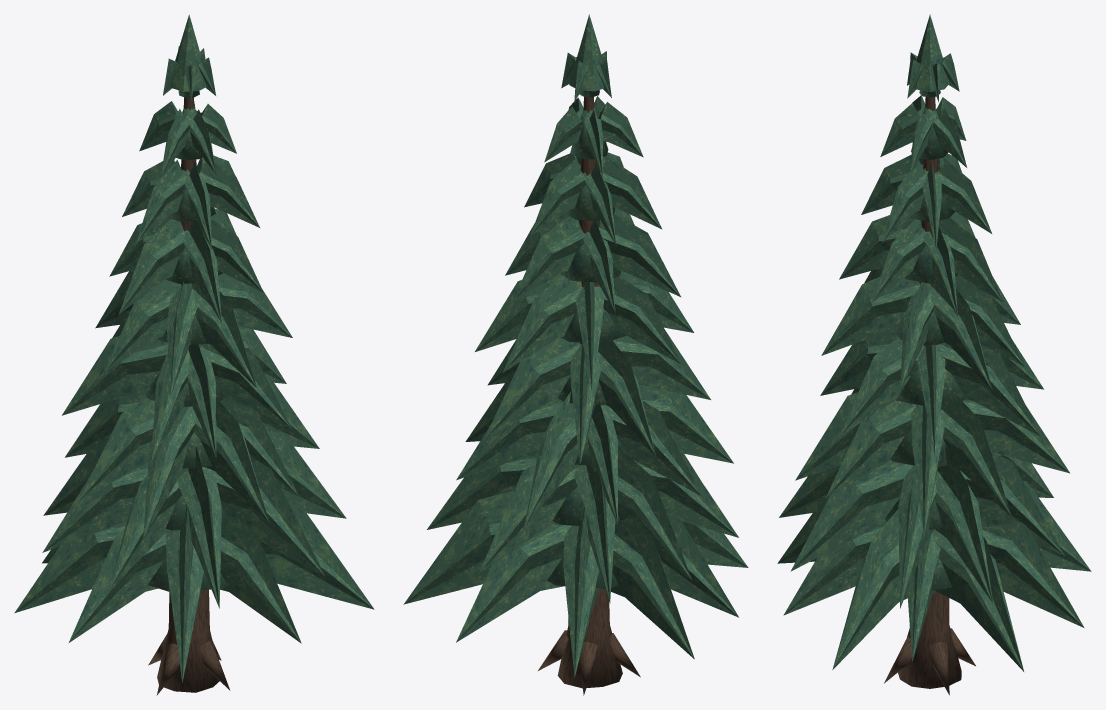
Rendered from pine_tree.glb.
3 renders of one model, left to right at view 1: azimuth 30°, elevation 25°; view 2: azimuth 150°, elevation 25°; view 3: azimuth 270°, elevation 25°, orthographic.
Parts seen in each view (by area): view 1: pine_tree_branch_tiers, pine_tree_trunk; view 2: pine_tree_branch_tiers, pine_tree_trunk; view 3: pine_tree_branch_tiers, pine_tree_trunk.
Boxes of the visible parts, x1,y1,x2,y2 form: pine_tree_branch_tiers: (14, 14, 374, 682); pine_tree_trunk: (148, 97, 230, 695); pine_tree_branch_tiers: (403, 14, 748, 677); pine_tree_trunk: (538, 97, 640, 695); pine_tree_branch_tiers: (777, 14, 1091, 671); pine_tree_trunk: (884, 97, 975, 695).
Size of what is drawn, in the model's own units: 2.9 by 6.5 by 2.8.
2 materials, 2 textured.
